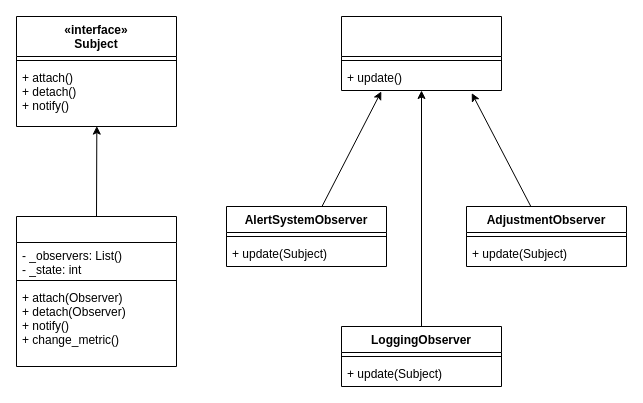
The diagram is 643 pixels wide and 403 high, and some of its shapes have lost their labels. The box of each missing label's shape, as (x1, y1, x2, y2) in pixels:
ConcreteSubject: (16, 216, 176, 366)
«interface» Observer: (340, 16, 502, 90)
